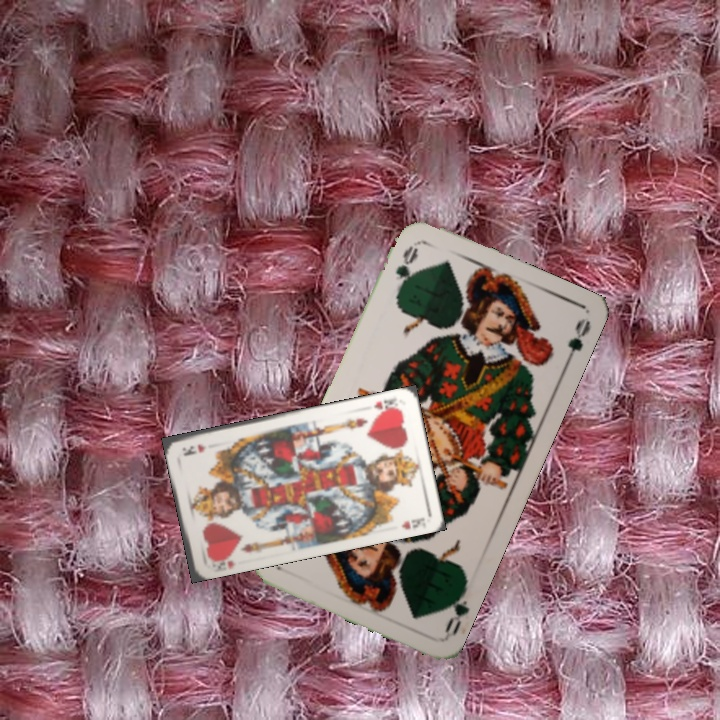GO: (440, 580, 471, 639), (391, 241, 421, 298)
HK: (204, 550, 238, 572), (370, 393, 401, 415)
